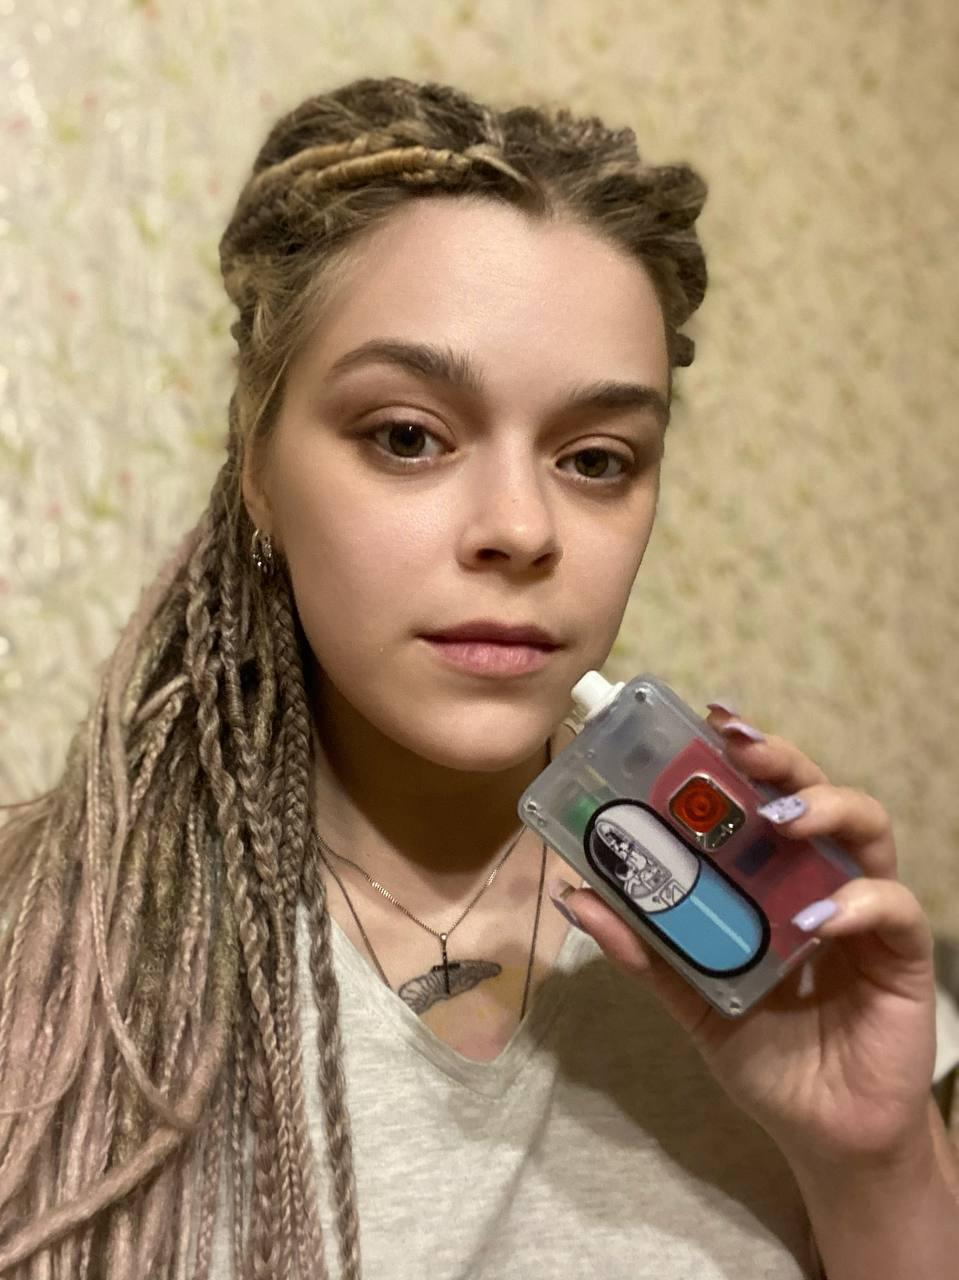Vape: (518, 672, 859, 1018)
